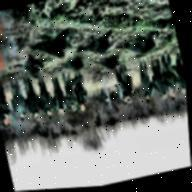boar: (26, 21, 82, 64), (116, 22, 164, 63), (79, 19, 120, 62), (57, 52, 89, 81), (92, 54, 125, 74), (22, 57, 49, 81)
